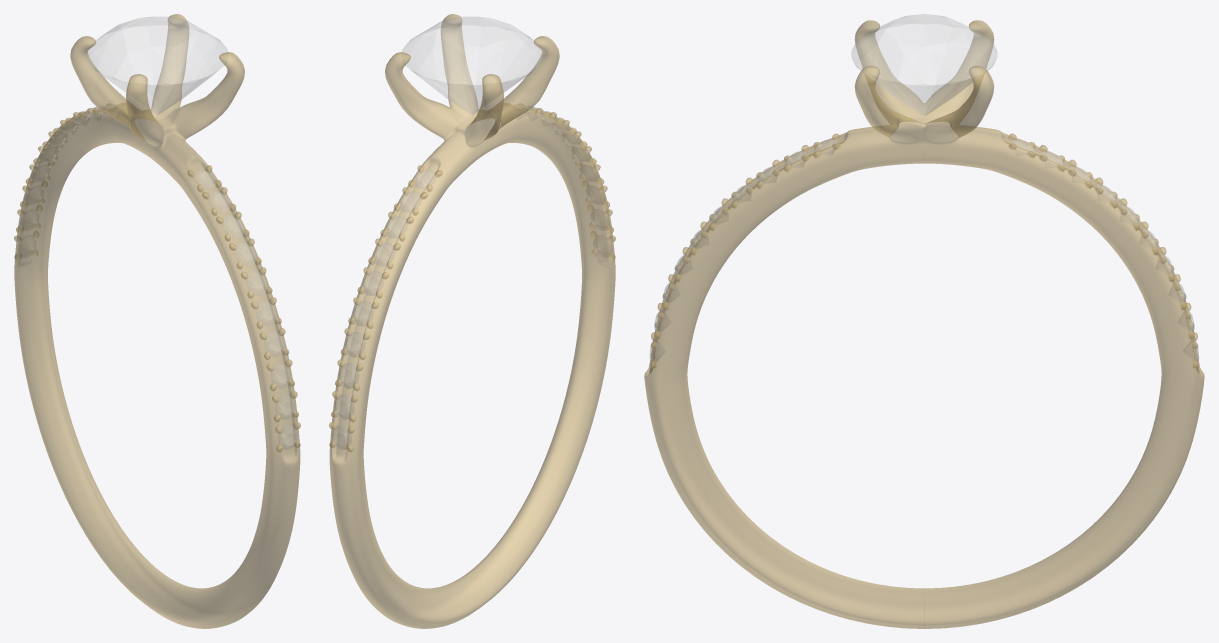
3 views of the same model, side by side, from view 1: azimuth 30°, elevation 25°; view 2: azimuth 150°, elevation 25°; view 3: azimuth 270°, elevation 25° (orthographic). The views are drawn at different scales.
Visible parts, largest first — view 1: Ring, Diamond; view 2: Ring, Diamond; view 3: Ring, Diamond.
Boxes of the visible parts, box(x1,y1,x2,y2) form: Ring: box(14, 14, 300, 628); Diamond: box(18, 17, 296, 449); Ring: box(329, 14, 615, 628); Diamond: box(332, 17, 612, 449); Ring: box(644, 20, 1204, 628); Diamond: box(650, 14, 1198, 361).
Size of the model in its own units: 0.6116 by 2.75 by 2.34.
